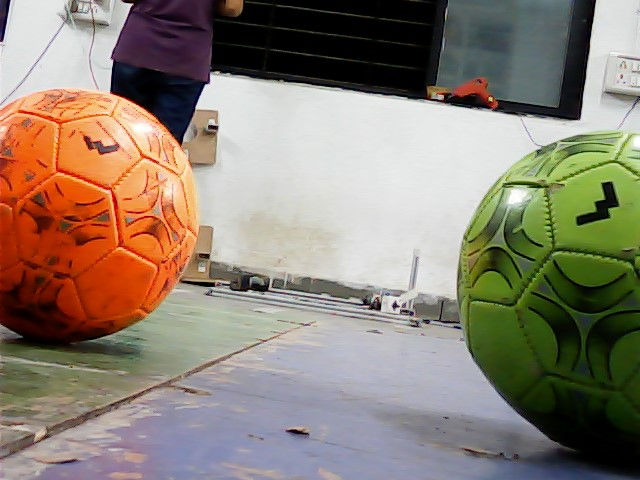Green_ball: (460, 126, 640, 458)
Orange_ball: (3, 88, 200, 342)
